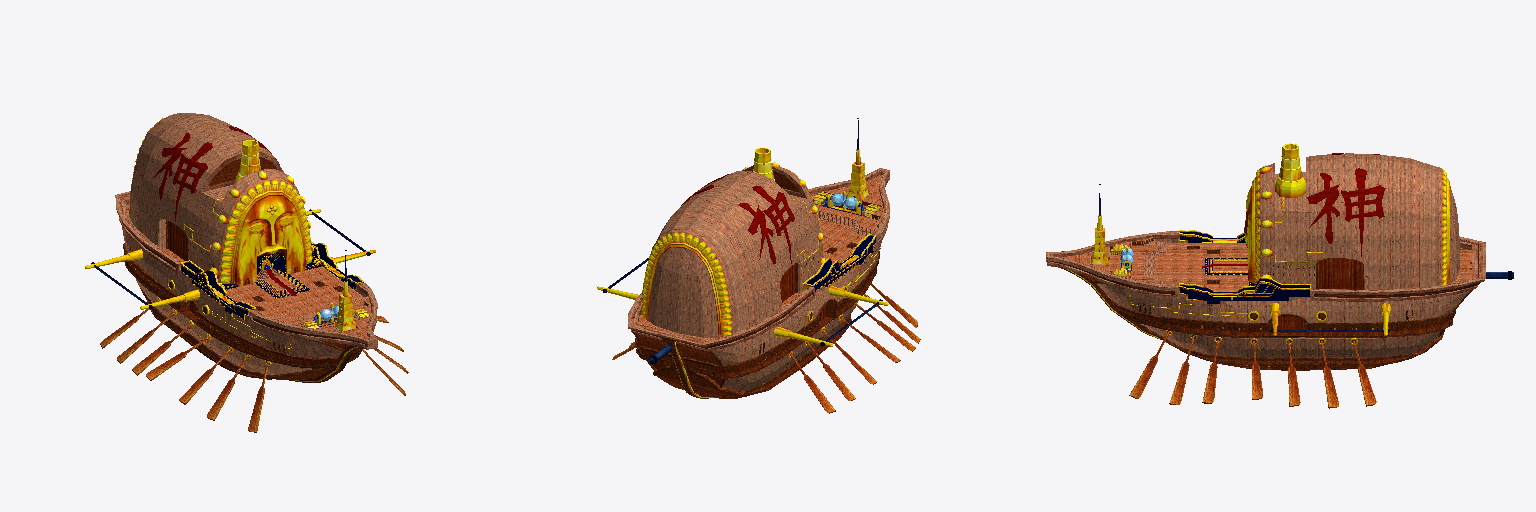
3 views of the same model, side by side, from view 1: azimuth 30°, elevation 25°; view 2: azimuth 150°, elevation 25°; view 3: azimuth 270°, elevation 25° (orthographic).
Parts seen in each view (by area): view 1: ship; view 2: ship; view 3: ship.
Boxes of the visible parts, x1=… form: ship: x1=85, y1=113, x2=408, y2=432; ship: x1=597, y1=118, x2=920, y2=413; ship: x1=1046, y1=143, x2=1513, y2=408.
Size of the model in its own units: 4.87 by 4.24 by 8.27.
81 materials, 17 textured.